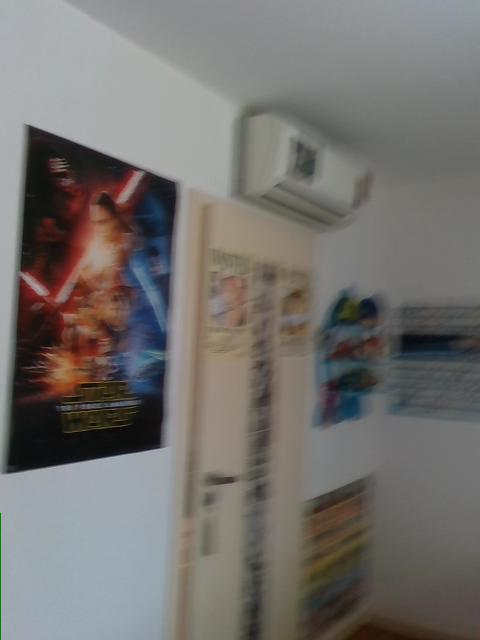closed_door: (171, 184, 316, 639)
